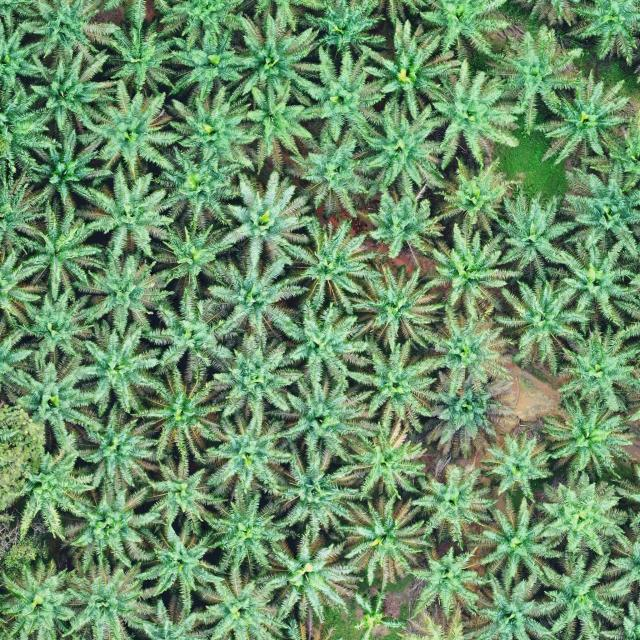Tree: (265, 432, 376, 543), (489, 270, 599, 378), (428, 55, 531, 170), (257, 524, 371, 622), (201, 480, 304, 586), (485, 16, 591, 116), (196, 254, 306, 350), (270, 214, 375, 313), (337, 261, 442, 359), (73, 393, 172, 495), (1, 350, 106, 446), (351, 105, 457, 200), (54, 549, 164, 640), (328, 492, 432, 588), (287, 45, 392, 140), (350, 334, 448, 434), (62, 320, 162, 418), (83, 79, 186, 174), (281, 295, 378, 395), (146, 280, 243, 379), (212, 329, 312, 424), (63, 476, 163, 570), (14, 442, 106, 544), (281, 370, 384, 461), (549, 231, 640, 334), (125, 368, 222, 464), (416, 229, 515, 323), (129, 515, 223, 614), (284, 126, 382, 220), (193, 405, 292, 498), (358, 38, 467, 122), (538, 547, 634, 640), (542, 394, 639, 486), (234, 9, 332, 100), (422, 366, 521, 456), (84, 160, 174, 259), (224, 171, 320, 262), (539, 468, 635, 558), (168, 84, 264, 174), (326, 416, 428, 500), (464, 498, 563, 584), (538, 77, 634, 165), (554, 320, 640, 418), (24, 127, 119, 215), (76, 250, 173, 336), (558, 157, 640, 258), (493, 181, 584, 272), (19, 48, 113, 136), (147, 444, 231, 540), (154, 142, 247, 228), (10, 209, 104, 294), (432, 152, 524, 238), (399, 538, 495, 620), (433, 302, 517, 394), (403, 464, 497, 546), (196, 563, 296, 640), (165, 19, 259, 98), (0, 557, 88, 640), (12, 0, 122, 66), (473, 564, 567, 640), (149, 217, 240, 292), (243, 70, 318, 160), (101, 16, 187, 92), (15, 284, 106, 354), (366, 188, 445, 258), (479, 430, 555, 502), (351, 590, 405, 640)
